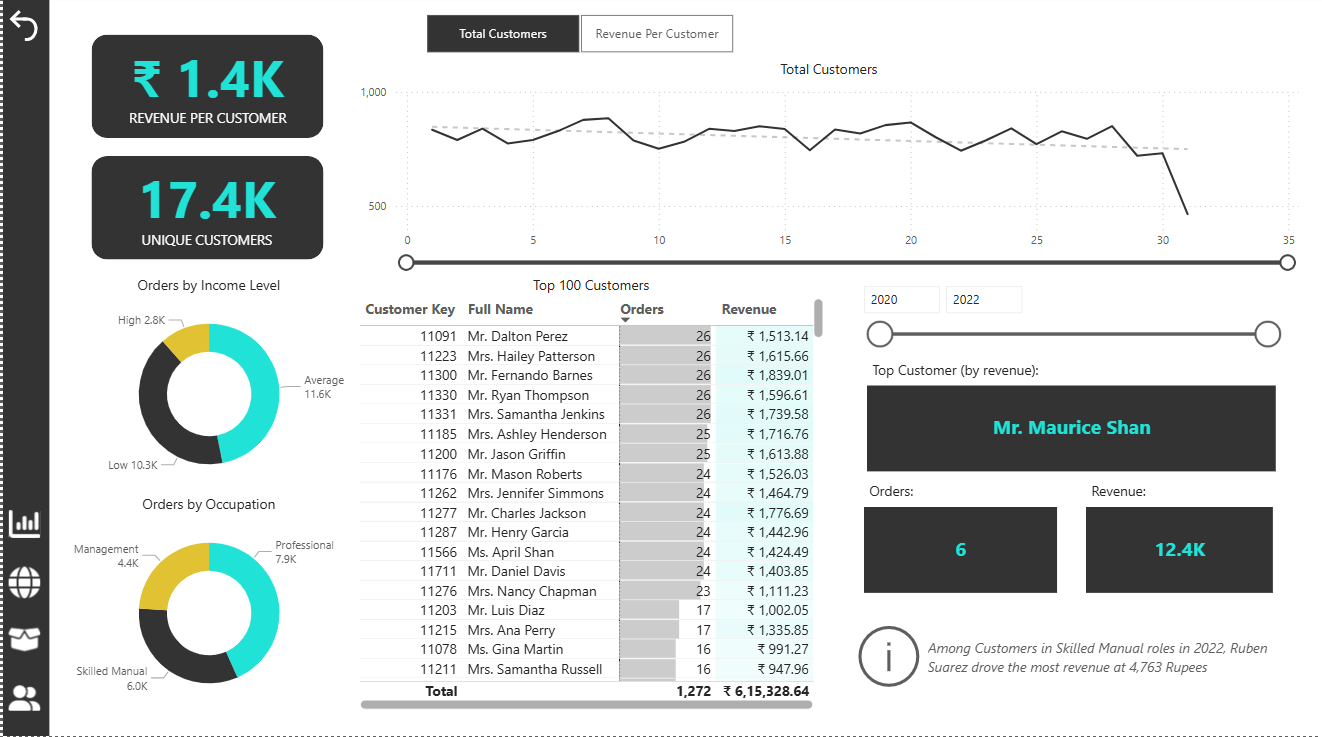

The dashboard page shown, as its layout file describes it:
{"tool":"powerbi","page":{"name":"Customer Detail","canvas":[1280,720],"ordinal":3},"visuals":[{"type":"shape","box":[0,0,45,720.6],"z":0},{"type":"shape","box":[85.2,157.7,225.1,100.4],"z":1000},{"type":"actionButton","box":[1.2,607.8,45.3,38.9],"z":1000,"group":"g1"},{"type":"shape","box":[86.3,39,225.1,100.4],"z":2000},{"type":"actionButton","box":[1.2,495.5,45.3,38.9],"z":2000,"group":"g1"},{"type":"card","fields":{"Values":["Measure Table.Average Revenue Per Customer"]},"box":[80.2,33,236.4,106.9],"z":3000},{"type":"actionButton","box":[1.2,663.9,45.3,38.9],"z":3000,"group":"g1"},{"type":"card","fields":{"Values":["Measure Table.Total Customers"]},"box":[80.8,151.7,235,106.5],"z":4000},{"type":"actionButton","box":[1.2,551.6,45.3,38.9],"z":4000,"group":"g1"},{"type":"lineChart","fields":{"Y":["Measure Table.Total Customers"],"Category":["Calendar Lookup.Date.Variation.Date Hierarchy.Year","Calendar Lookup.Date.Variation.Date Hierarchy.Quarter","Calendar Lookup.Date.Variation.Date Hierarchy.Month","Calendar Lookup.Date.Variation.Date Hierarchy.Day"]},"box":[340,63.1,921.3,208.9],"z":5000},{"type":"donutChart","title":"Orders by Income Level","fields":{"Y":["Measure Table.Total Orders"],"Category":["Customer Lookup.Income Level"]},"box":[60,271.7,280,213.3],"z":6000},{"type":"donutChart","title":"Orders by Occupation","fields":{"Y":["Measure Table.Total Orders"],"Category":["Customer Lookup.Occupation"]},"box":[60,485,280,213.3],"z":7000},{"type":"tableEx","title":"Top 100 Customers","fields":{"Values":["Customer Lookup.CustomerKey","Customer Lookup.Full Name","Measure Table.Total Orders","Measure Table.Total Revenue"]},"box":[340,271.7,460,426.7],"z":8000},{"type":"card","fields":{"Values":["Measure Table.Full Name (Customer Detail)"]},"box":[837.7,380,396.9,83.2],"z":9000},{"type":"textbox","box":[837.7,349.8,187.1,30.2],"z":10000},{"type":"card","fields":{"Values":["Measure Table.Total Revenue (Customer Detail)"]},"box":[1051,497.9,181.4,83.2],"z":11000},{"type":"card","fields":{"Values":["Measure Table.Total Orders (Customer Detail)"]},"box":[835.5,497.9,187.1,83.2],"z":12000},{"type":"textbox","box":[835.5,467.8,187.1,30.2],"z":13000},{"type":"textbox","box":[1051,467.8,187.1,30.2],"z":14000},{"type":"slicer","fields":{"Values":["Calendar Lookup.Date.Variation.Date Hierarchy.Year"]},"box":[822.6,273.6,425.9,85.8],"z":15000},{"type":"actionButton","box":[822.6,605.6,409.7,74.5],"z":16000},{"type":"actionButton","box":[0,9.7,45.3,40.5],"z":17000},{"type":"group","id":"g1","title":"Navigation Buttons","box":[1.2,495.5,45.3,207.3],"z":18000},{"type":"slicer","fields":{"Values":["Customer Metric Selection.Customer Metric Selection"]},"box":[385.4,13,346.5,50.2],"z":18501}]}

Visuals, with their boxes on the page's 1280x720 design canvas (x1, y1, x2, y2). These are canvas units, not pixel positions in the 1322x737 screenshot, which may show the page scaled, cropped or inside an application window:
shape: (0,0,45,721)
shape: (85,158,310,258)
actionButton: (1,608,46,647)
shape: (86,39,311,139)
actionButton: (1,496,46,534)
card - Measure Table.Average Revenue Per Customer: (80,33,317,140)
actionButton: (1,664,46,703)
card - Measure Table.Total Customers: (81,152,316,258)
actionButton: (1,552,46,590)
lineChart - Measure Table.Total Customers x Calendar Lookup.Date.Variation.Date Hierarchy.Year: (340,63,1261,272)
"Orders by Income Level" donutChart: (60,272,340,485)
"Orders by Occupation" donutChart: (60,485,340,698)
"Top 100 Customers" tableEx: (340,272,800,698)
card - Measure Table.Full Name (Customer Detail): (838,380,1235,463)
textbox: (838,350,1025,380)
card - Measure Table.Total Revenue (Customer Detail): (1051,498,1232,581)
card - Measure Table.Total Orders (Customer Detail): (836,498,1023,581)
textbox: (836,468,1023,498)
textbox: (1051,468,1238,498)
slicer - Calendar Lookup.Date.Variation.Date Hierarchy.Year: (823,274,1248,359)
actionButton: (823,606,1232,680)
actionButton: (0,10,45,50)
"Navigation Buttons" group: (1,496,46,703)
slicer - Customer Metric Selection.Customer Metric Selection: (385,13,732,63)
